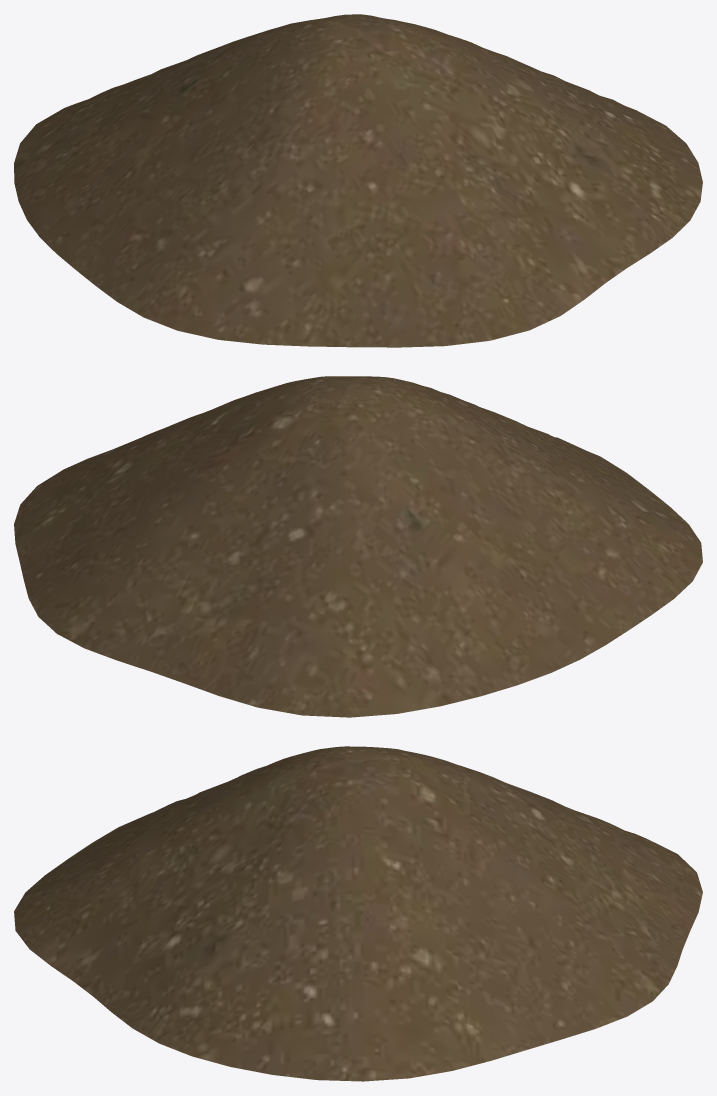
File: PAV-BAS-003_lod1.glb
The picture shows the model from 3 angles, top to bottom: view 1: azimuth 30°, elevation 25°; view 2: azimuth 150°, elevation 25°; view 3: azimuth 270°, elevation 25°; orthographic projection.
Visible parts, largest first — view 1: PAV-BAS-003_monte; view 2: PAV-BAS-003_monte; view 3: PAV-BAS-003_monte.
Boxes of the visible parts, left/top/right/bottom form: PAV-BAS-003_monte: left=14, top=14, right=702, bottom=347; PAV-BAS-003_monte: left=14, top=376, right=702, bottom=717; PAV-BAS-003_monte: left=14, top=746, right=702, bottom=1081.
Size of the model in its own units: 1.79 by 0.4982 by 1.82.
Materials: 1 (1 with a texture image).
